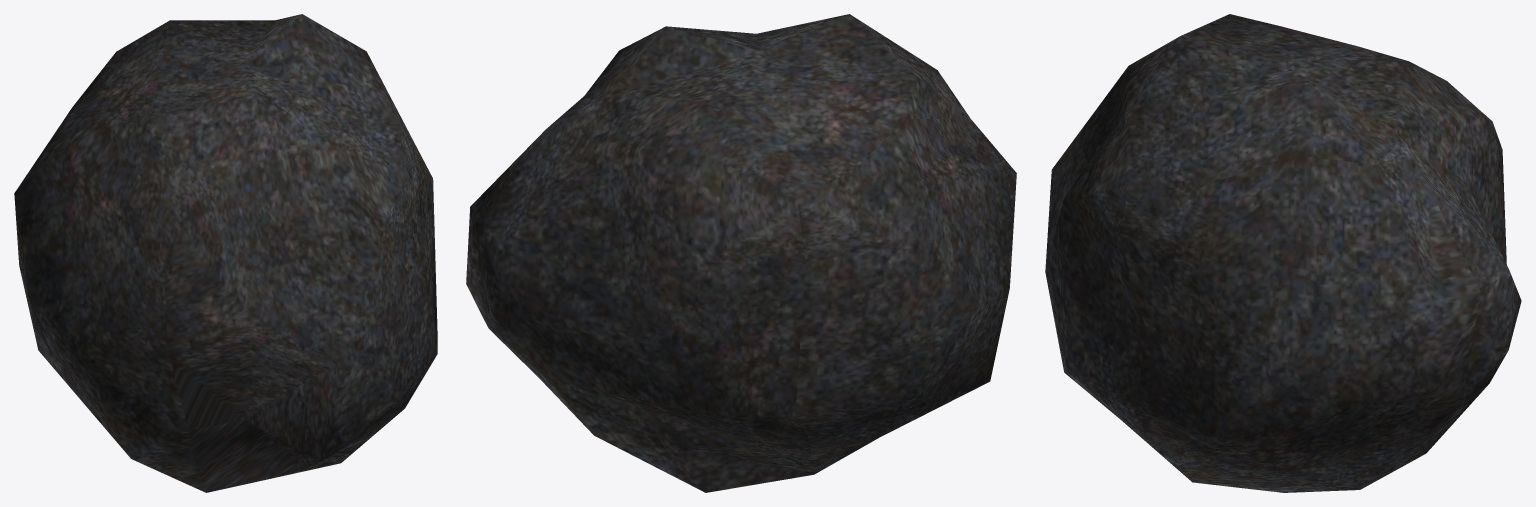
File: asteroid_metal_medium_s01_l2.fbx
The picture shows the model from 3 angles, left to right: view 1: azimuth 30°, elevation 25°; view 2: azimuth 150°, elevation 25°; view 3: azimuth 270°, elevation 25°; orthographic projection. The views are drawn at different scales.
Parts seen in each view (by area): view 1: mesh_node; view 2: mesh_node; view 3: mesh_node.
Part boxes in pixels (x1,y1,x2,y2): mesh_node: [14, 14, 437, 492]; mesh_node: [466, 14, 1016, 492]; mesh_node: [1045, 14, 1521, 492].
Bounding box in the file's own units: 68.59 × 67.51 × 66.55.
